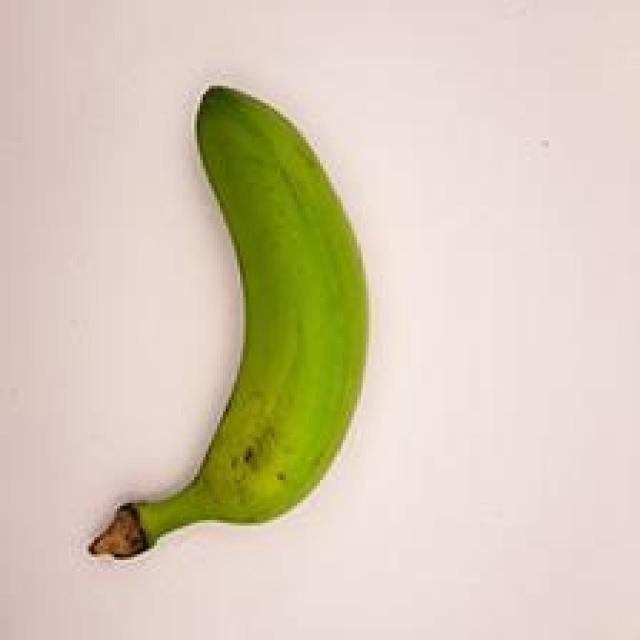raw: (78, 78, 409, 587)
